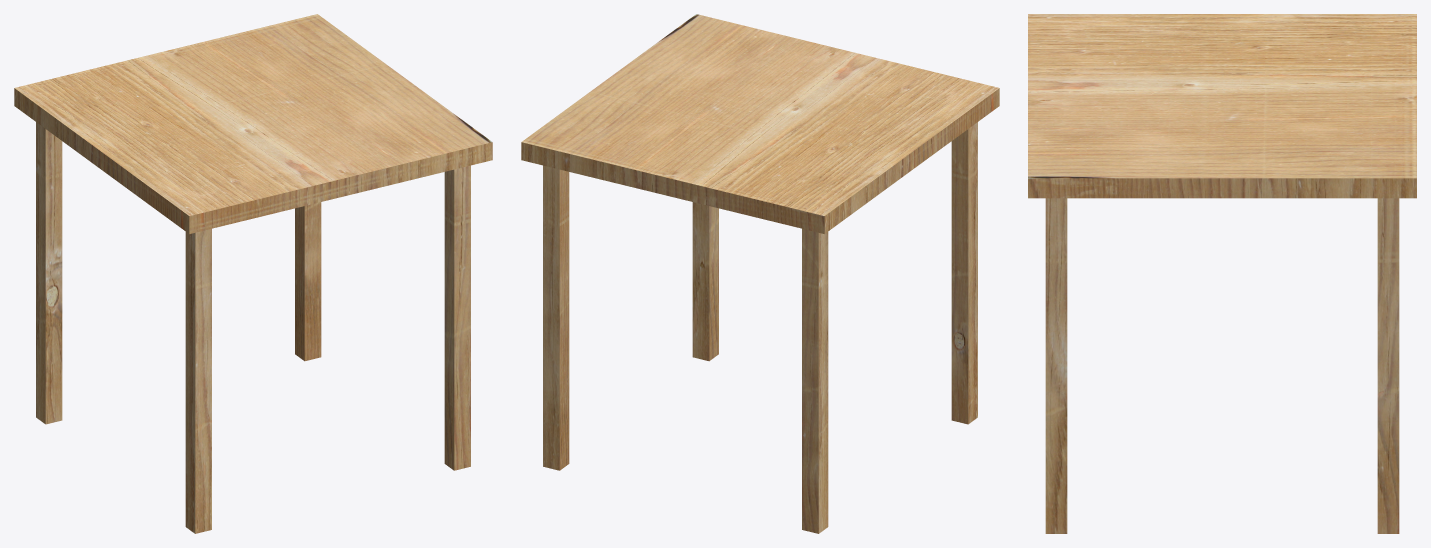
File: table.gltf
3 views of the same model, side by side, from view 1: azimuth 30°, elevation 25°; view 2: azimuth 150°, elevation 25°; view 3: azimuth 270°, elevation 25° (orthographic). The views are drawn at different scales.
Visible parts, largest first — view 1: Table; view 2: Table; view 3: Table.
Part boxes in pixels (bbox=[...]): Table: bbox=[14, 14, 492, 533]; Table: bbox=[521, 14, 999, 533]; Table: bbox=[1028, 14, 1416, 533].
Size of the model in its own units: 11.71 by 12.07 by 11.71.
Materials: 1 (1 with a texture image).
